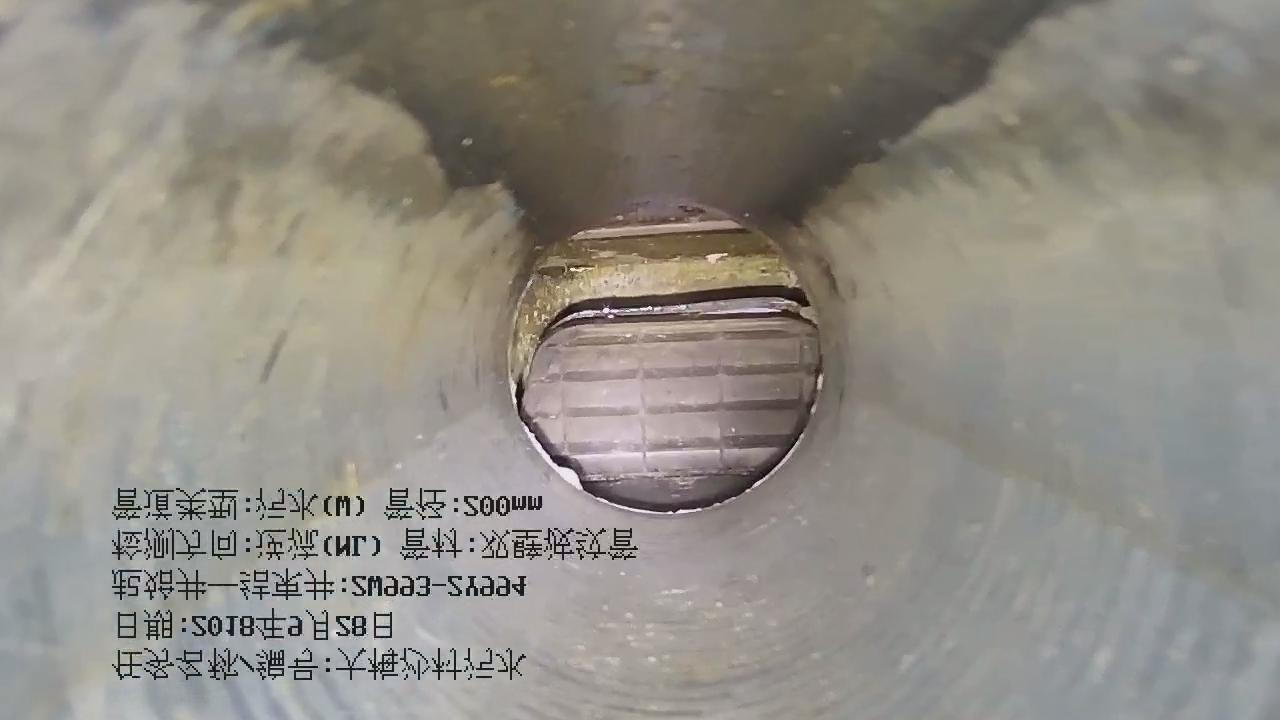YWCR: (517, 297, 823, 513)
